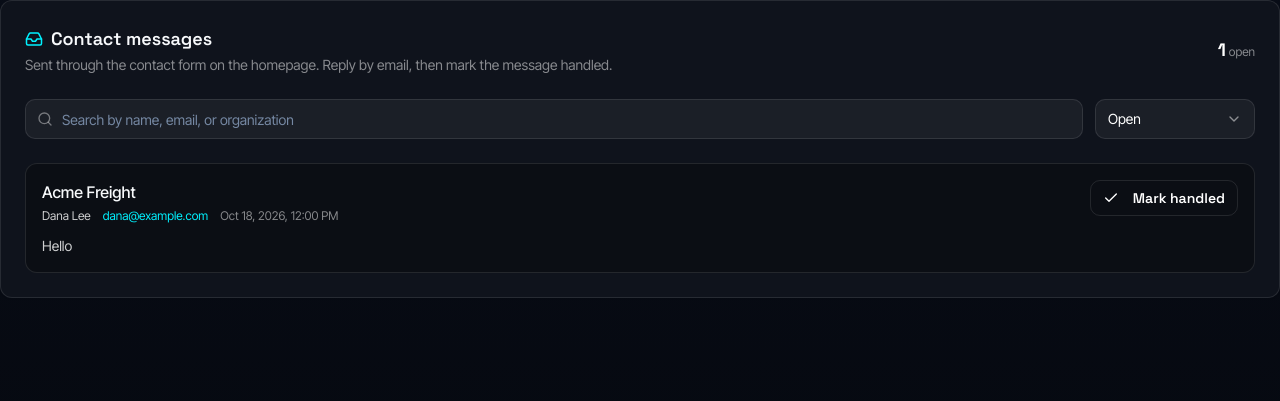
Test case: MessagesTab › marks a message handled with the admin's id, only while it is open
Click the button "Mark handled" at (1164, 198), box [1090,180,1238,216]
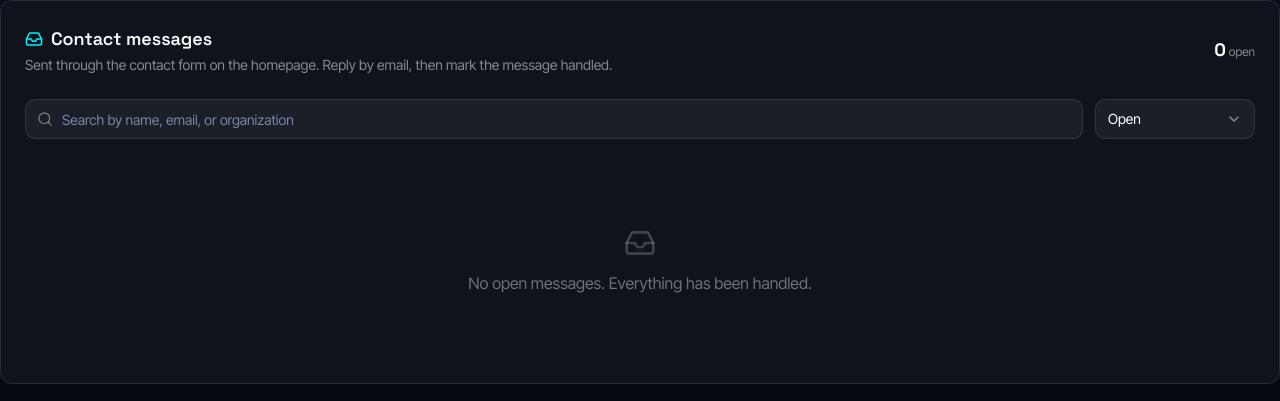
Result: the text "Dana Lee" is gone
